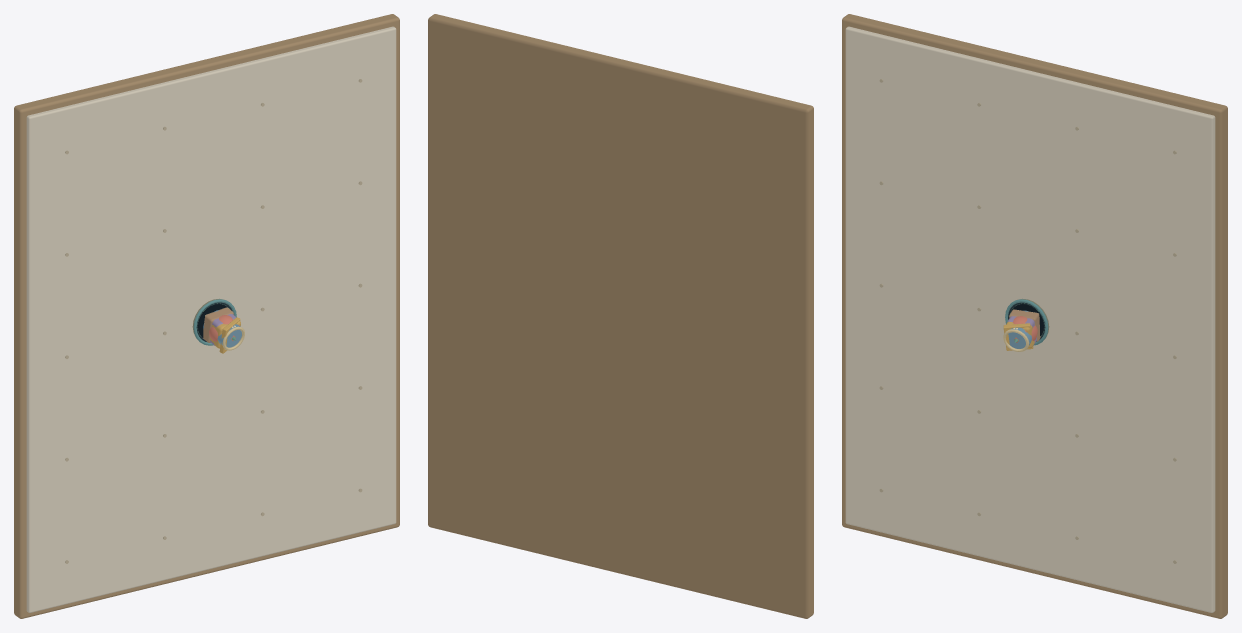
File: blackhole.glb
3 renders of one model, left to right at view 1: azimuth 30°, elevation 25°; view 2: azimuth 150°, elevation 25°; view 3: azimuth 330°, elevation 25°, orthographic.
Parts seen in each view (by area): view 1: part (×2); view 2: part; view 3: part (×2).
Boxes of the visible parts, box(x1,y1,x2,y2) form: part (×2): box(14, 14, 399, 618); part: box(428, 14, 813, 618); part (×2): box(842, 14, 1227, 618).
Bounding box in the file's own units: 358 × 458 × 47.21.
